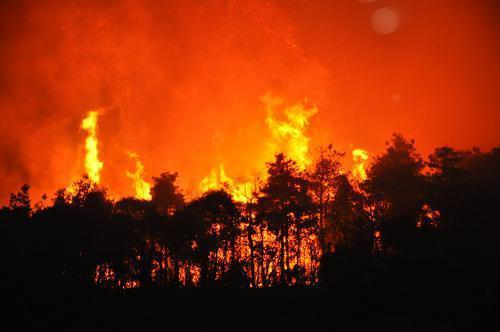fire: (63, 102, 390, 210)
